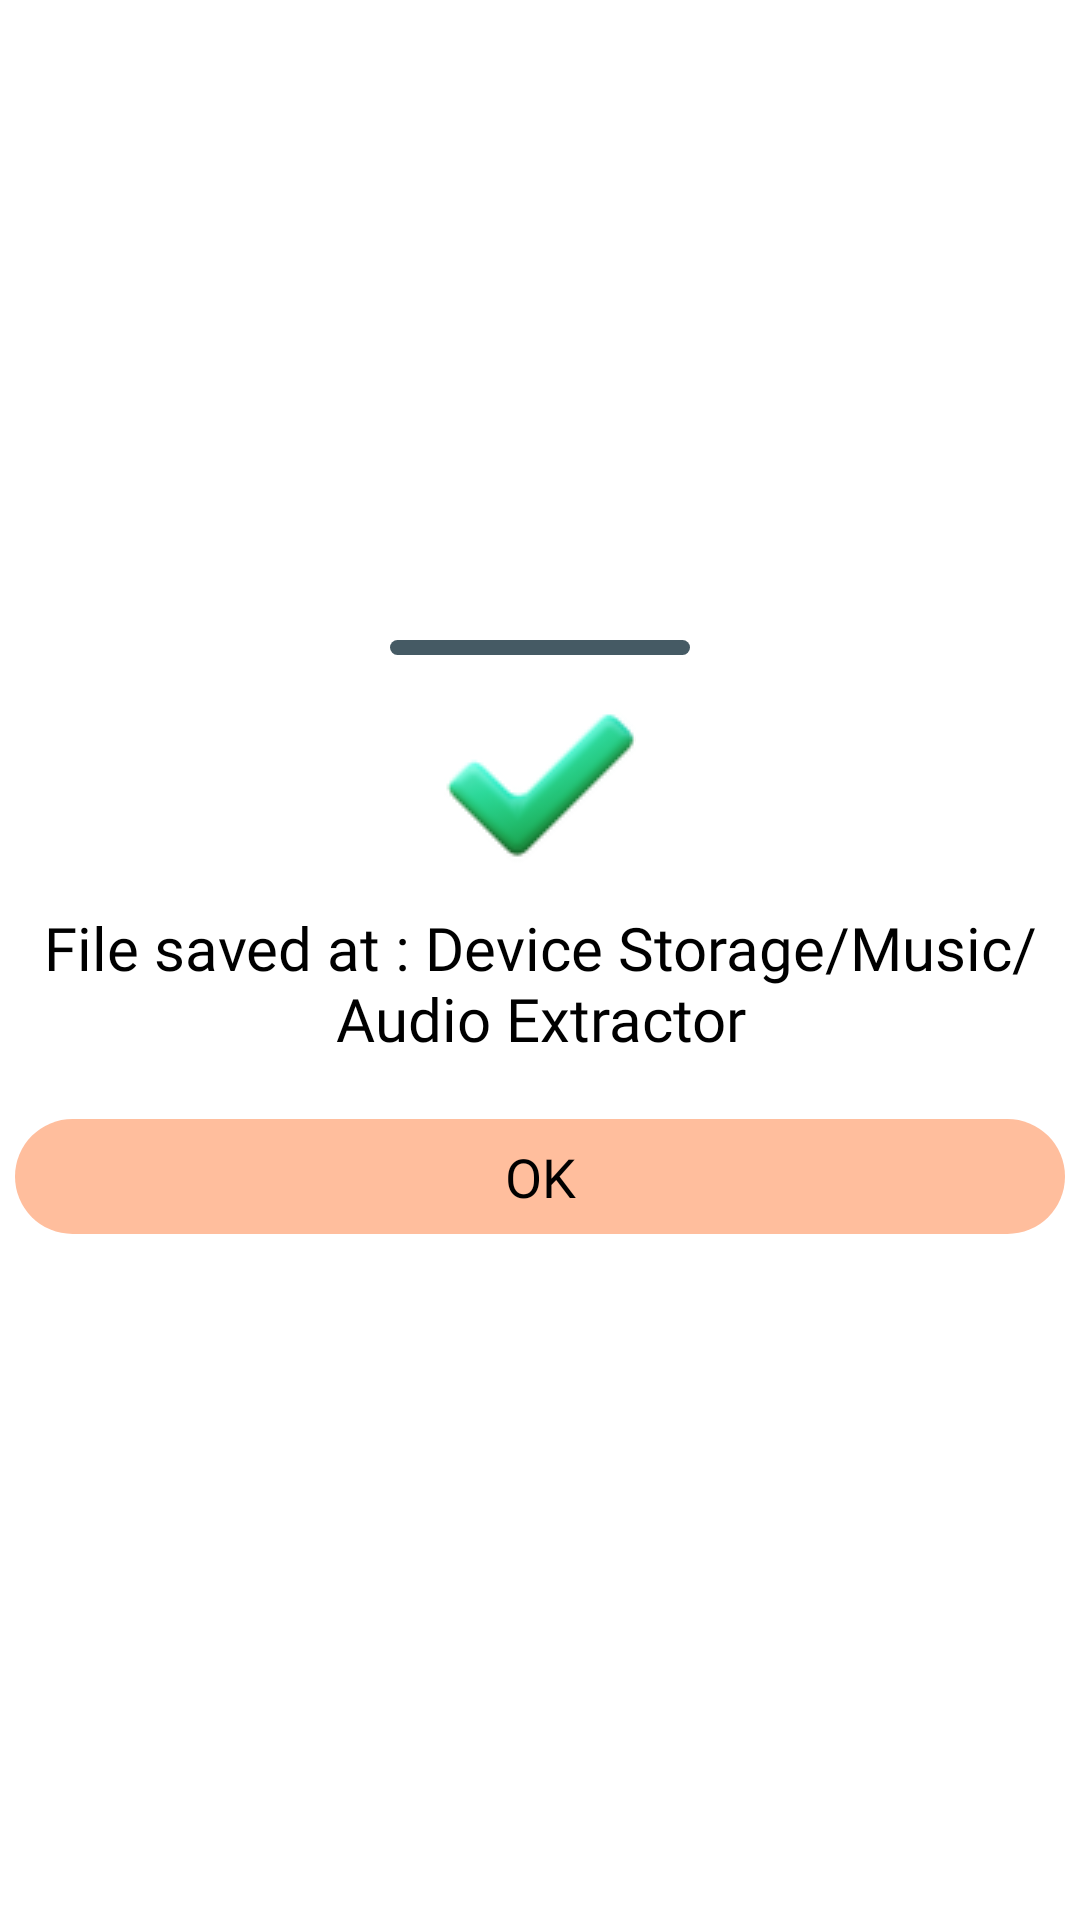

Icon bounding boxes for this 1080 × 1920 phone screenshot, format (x1, y1, x2, y2):
done: (447, 714, 634, 857)
